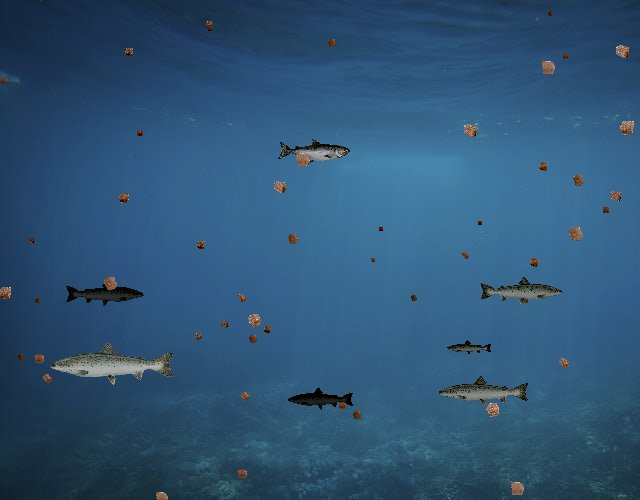Fish: (48, 340, 177, 386), (438, 374, 532, 408), (478, 275, 564, 306), (65, 278, 146, 308), (277, 139, 350, 165), (288, 386, 356, 410), (447, 339, 494, 356)
Pellet: (612, 112, 640, 143), (240, 307, 268, 335), (266, 174, 293, 201), (544, 7, 557, 20), (25, 235, 37, 247)
